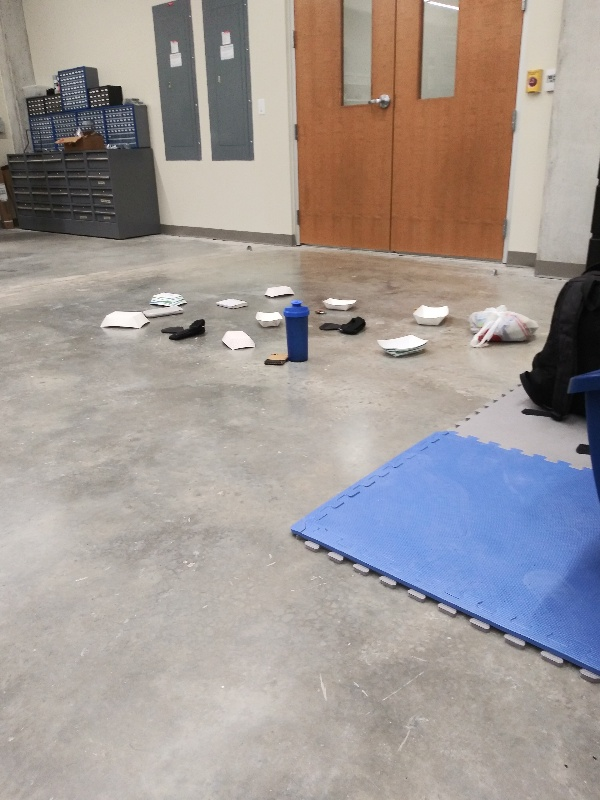plate: (374, 330, 434, 366), (98, 306, 151, 334), (410, 299, 454, 330), (217, 326, 260, 356), (253, 303, 285, 331), (148, 287, 191, 307), (319, 293, 362, 313), (262, 282, 296, 301)
